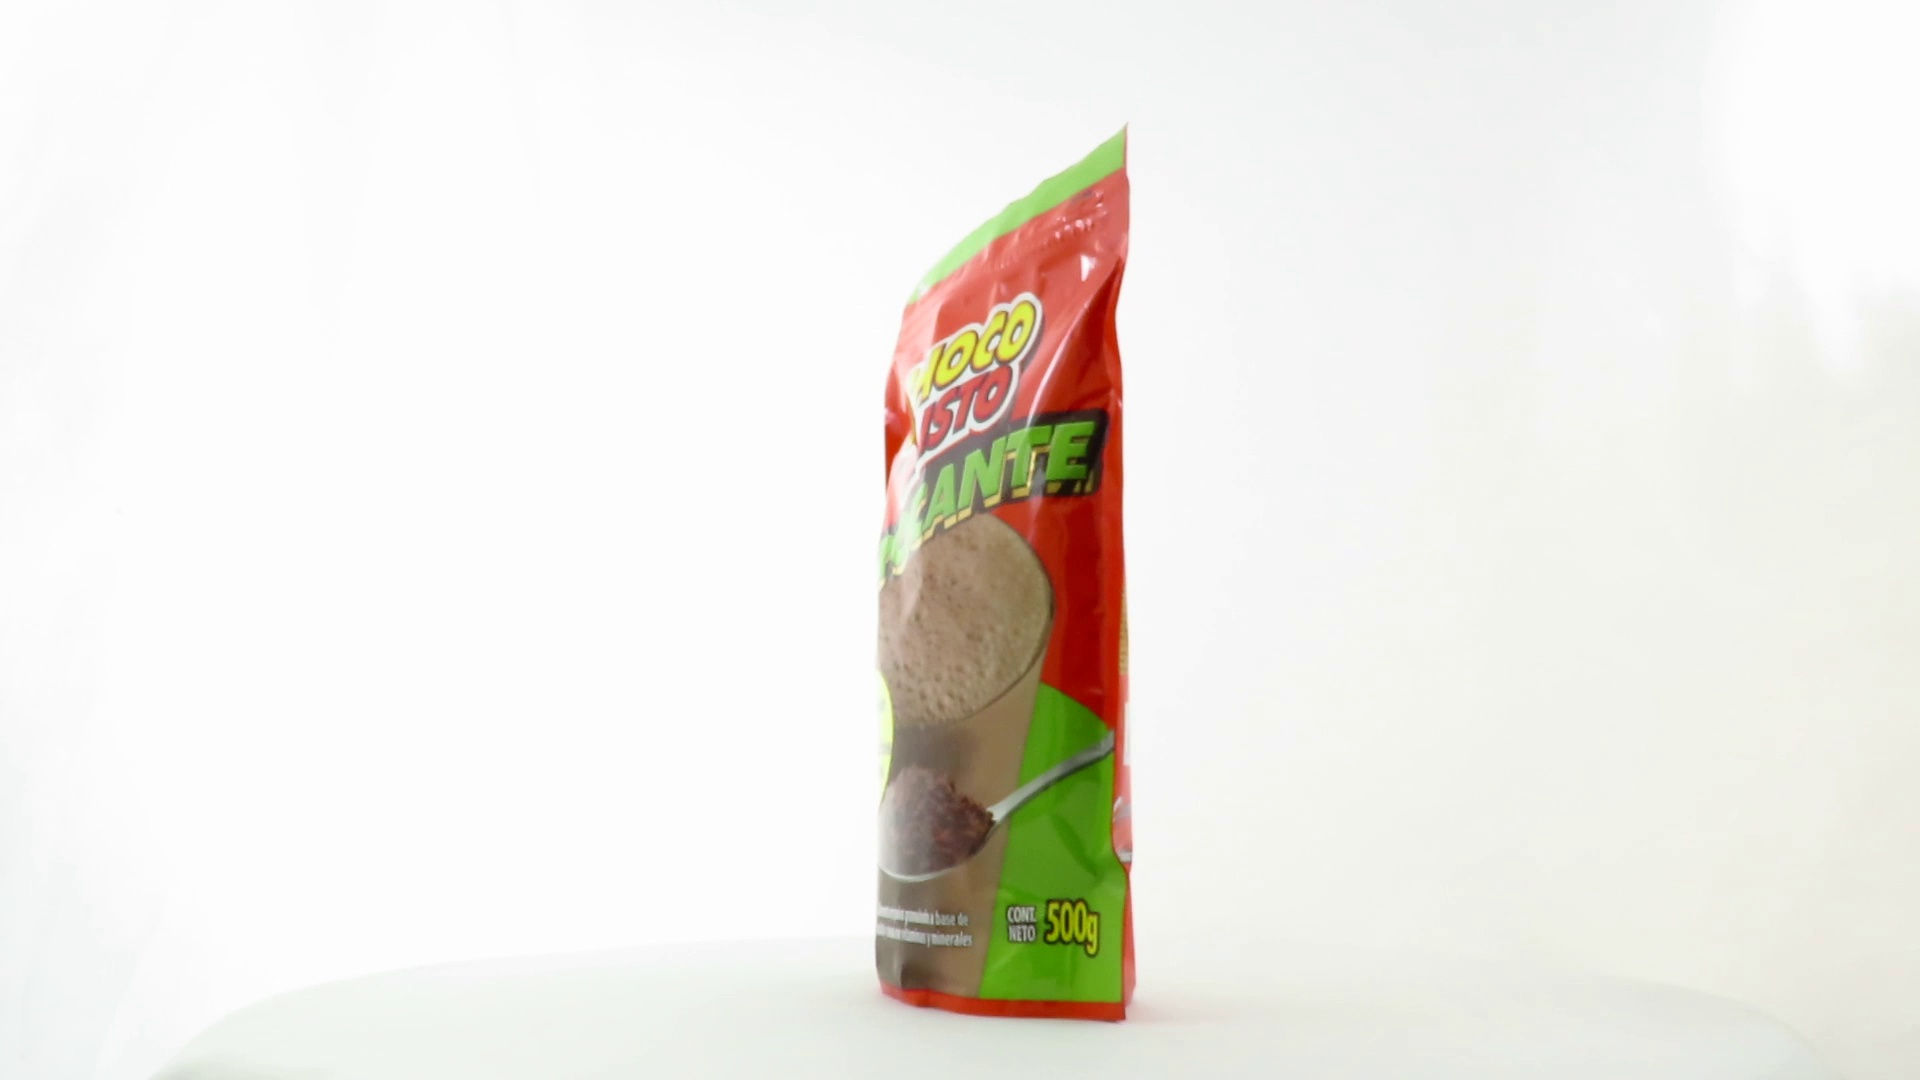COL0170102DYP50000: (870, 116, 1142, 1030)
